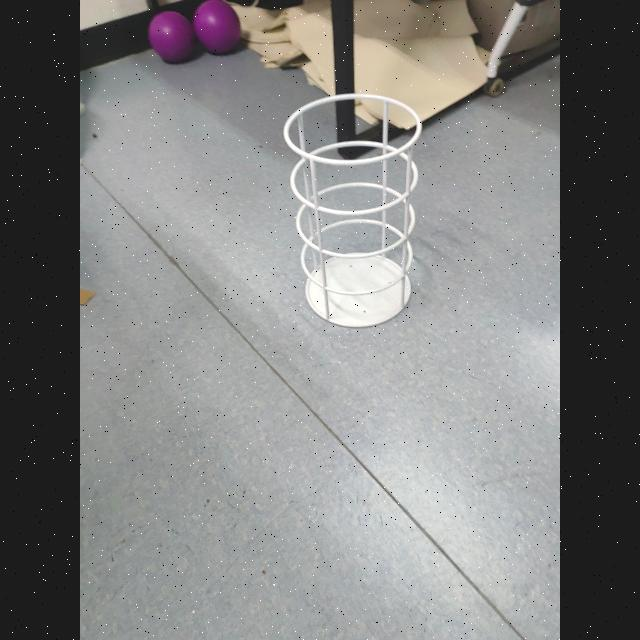S: (280, 91, 424, 335)
